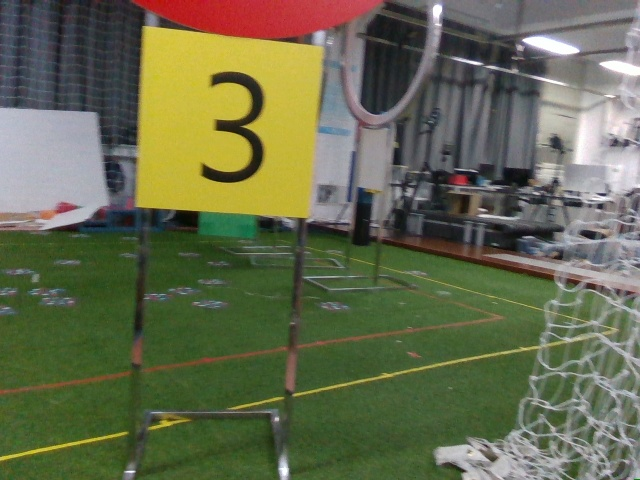target: (137, 43, 312, 214)
